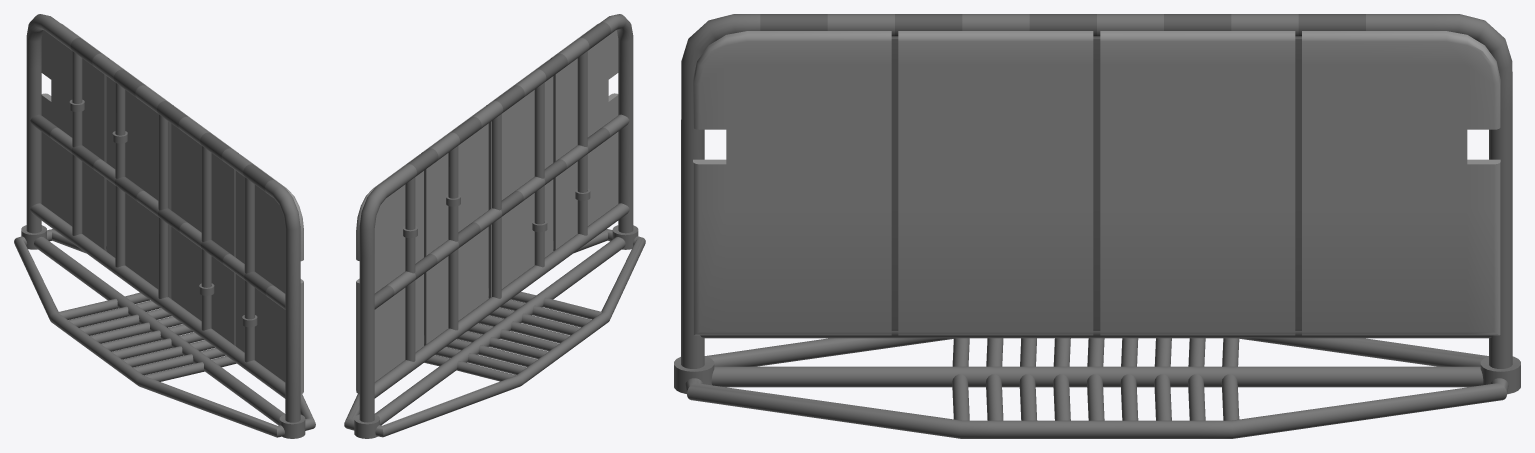
The model's file is Barrier_01.glb.
The picture shows the model from 3 angles, left to right: view 1: azimuth 30°, elevation 25°; view 2: azimuth 150°, elevation 25°; view 3: azimuth 270°, elevation 25°; orthographic projection. The views are drawn at different scales.
Parts seen in each view (by area): view 1: Mesh_Barrier_01; view 2: Mesh_Barrier_01; view 3: Mesh_Barrier_01.
Boxes of the visible parts, x1,y1,x2,y2 form: Mesh_Barrier_01: (14,14,315,438); Mesh_Barrier_01: (344,14,645,438); Mesh_Barrier_01: (674,14,1520,438).
Size of the model in its own units: 0.6394 by 1.01 by 2.1.
Materials: 1 (1 with a texture image).
